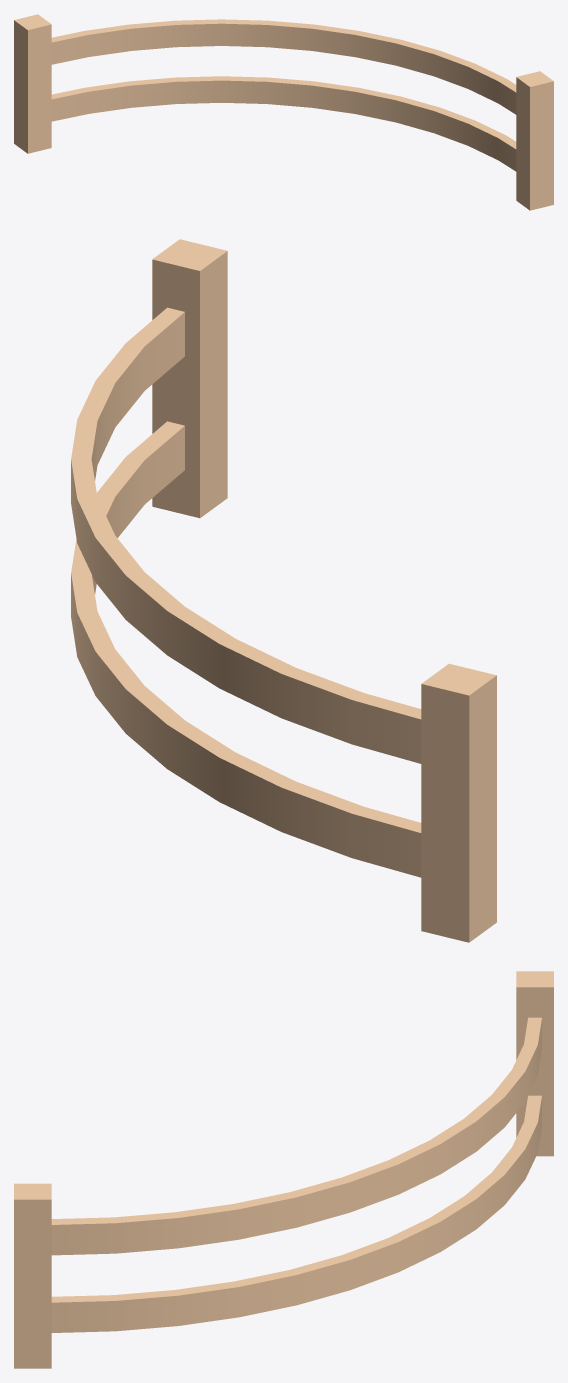
Rendered from fence_cornerRound.glb.
The picture shows the model from 3 angles, top to bottom: view 1: azimuth 30°, elevation 25°; view 2: azimuth 150°, elevation 25°; view 3: azimuth 270°, elevation 25°; orthographic projection. The views are drawn at different scales.
Visible parts, largest first — view 1: fence_cornerRound; view 2: fence_cornerRound; view 3: fence_cornerRound.
Boxes of the visible parts, x1,y1,x2,y2 form: fence_cornerRound: [14, 14, 553, 210]; fence_cornerRound: [71, 239, 496, 942]; fence_cornerRound: [14, 971, 553, 1368].
Bounding box in the file's own units: 1 × 0.345 × 1.
